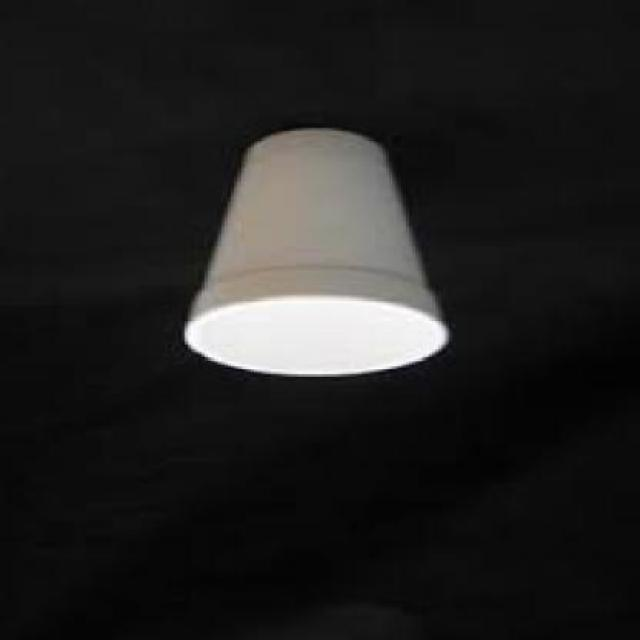PAPER: (184, 128, 456, 382)
